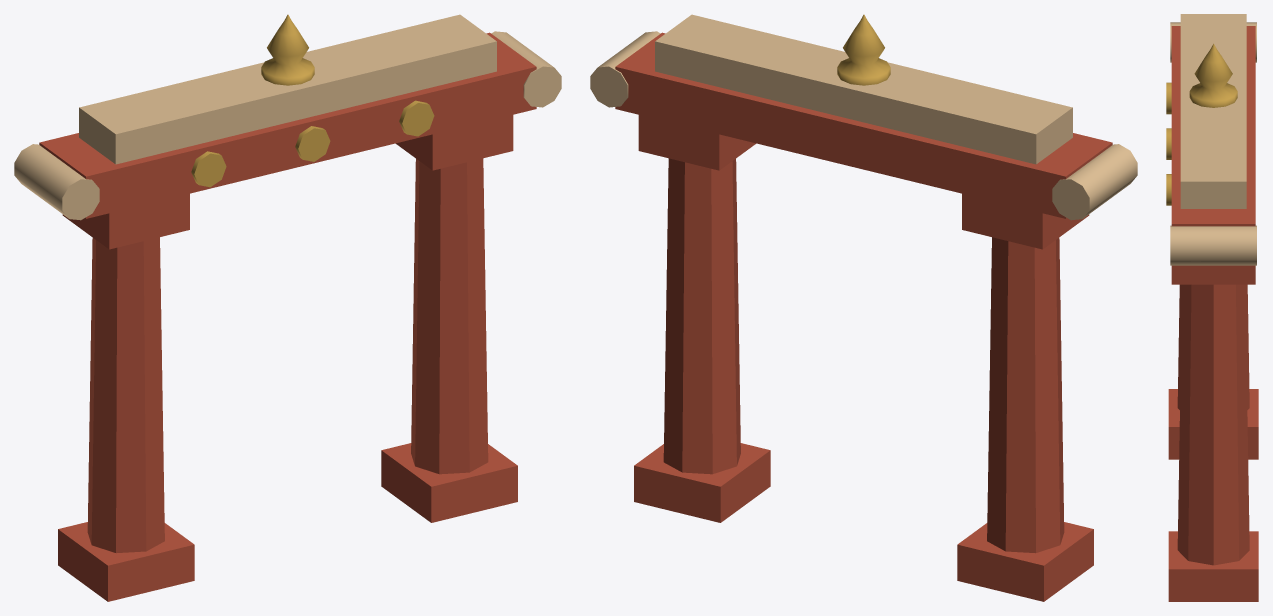
File: mbs.stone-torana.glb
3 views of the same model, side by side, from view 1: azimuth 30°, elevation 25°; view 2: azimuth 150°, elevation 25°; view 3: azimuth 270°, elevation 25° (orthographic). The views are drawn at different scales.
Visible parts, largest first — view 1: Stone Torana Gateway; view 2: Stone Torana Gateway; view 3: Stone Torana Gateway.
Boxes of the visible parts, box(x1,y1,x2,y2) form: Stone Torana Gateway: box(14, 14, 561, 601); Stone Torana Gateway: box(590, 14, 1137, 601); Stone Torana Gateway: box(1166, 14, 1258, 601).
Size of the model in its own units: 4.32 by 4.3 by 0.77.
